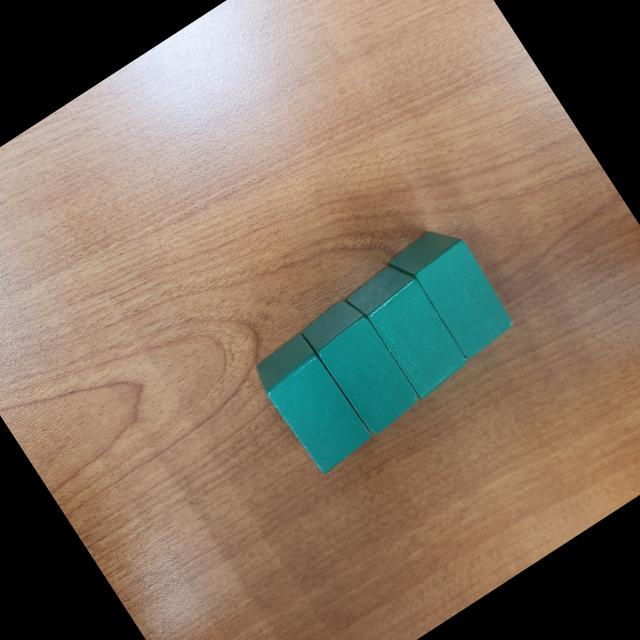green: (384, 218, 521, 371), (340, 255, 472, 404), (247, 328, 376, 477), (297, 291, 425, 440)
